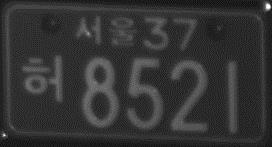1: (221, 58, 243, 134)
2: (169, 58, 209, 134)
3: (139, 14, 171, 53)
5: (125, 56, 164, 130)
7: (170, 14, 200, 52)
8: (80, 57, 121, 129)
서울_O: (73, 13, 138, 48)
허: (20, 53, 66, 106)
